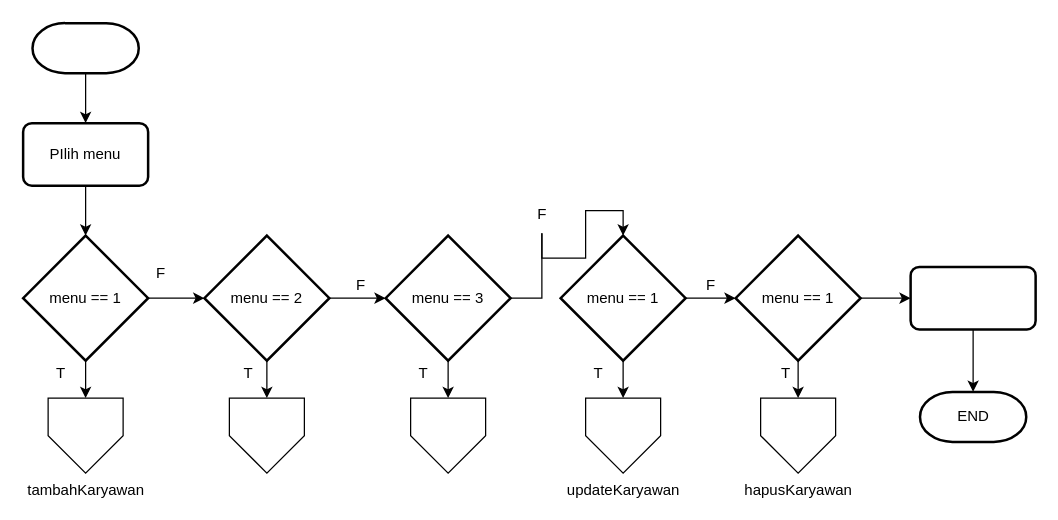
Image size: 1058x520. Some labels were removed from this diagram. The centre of each missing label's shape, as x and y in pixels:
"Keluar" goes at point 972,297.
"START" goes at point 85,47.
"tampilkanKaryawan" goes at point 447,435.
"tampilkanSemuaKaryawan" goes at point 266,435.
